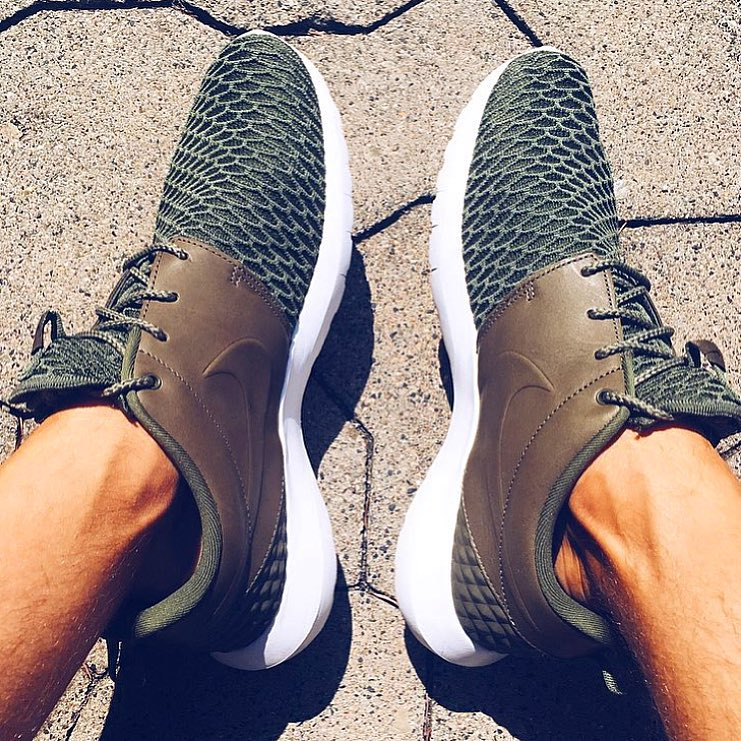sneaker: (364, 14, 741, 702), (1, 14, 363, 701)
